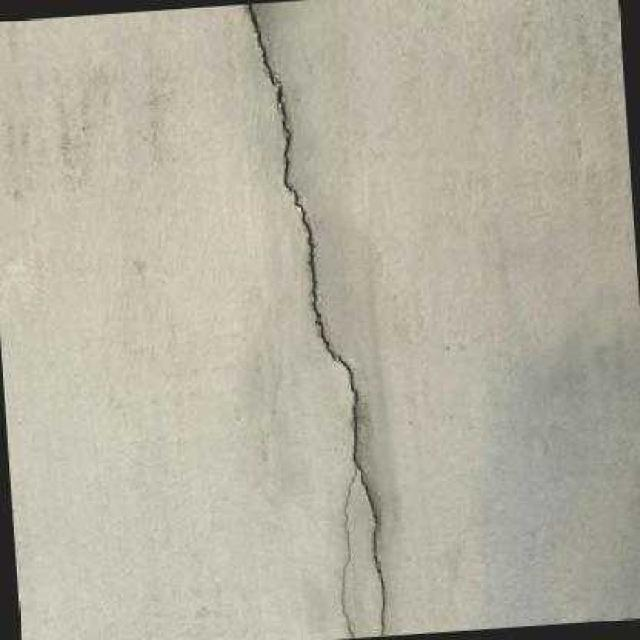D00: (248, 4, 386, 639)
